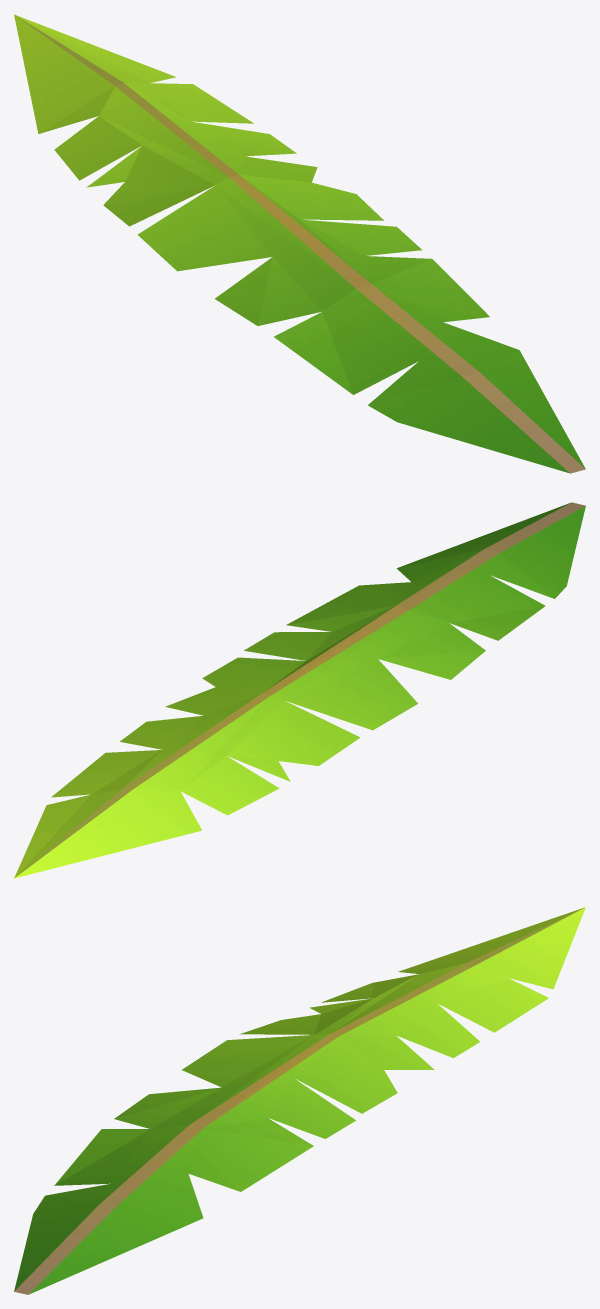
3 renders of one model, top to bottom at view 1: azimuth 30°, elevation 25°; view 2: azimuth 150°, elevation 25°; view 3: azimuth 330°, elevation 25°, orthographic. The views are drawn at different scales.
Visible parts, largest first — view 1: PalmLeaf; view 2: PalmLeaf; view 3: PalmLeaf.
Boxes of the visible parts, x1,y1,x2,y2 form: PalmLeaf: (14,14,585,473); PalmLeaf: (14,502,585,878); PalmLeaf: (14,907,585,1294).
Size of the model in its own units: 12.45 by 2.26 by 60.
1 material, 1 textured.
